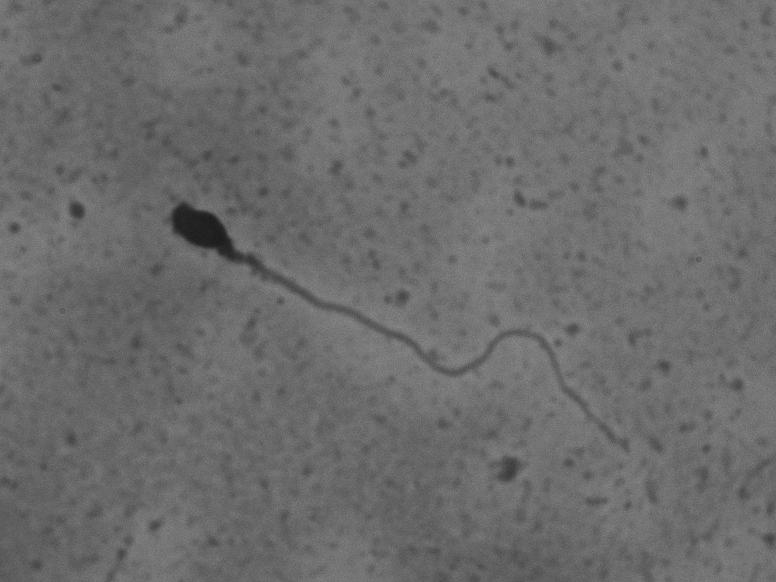Abnormal: (97, 201, 653, 478)
